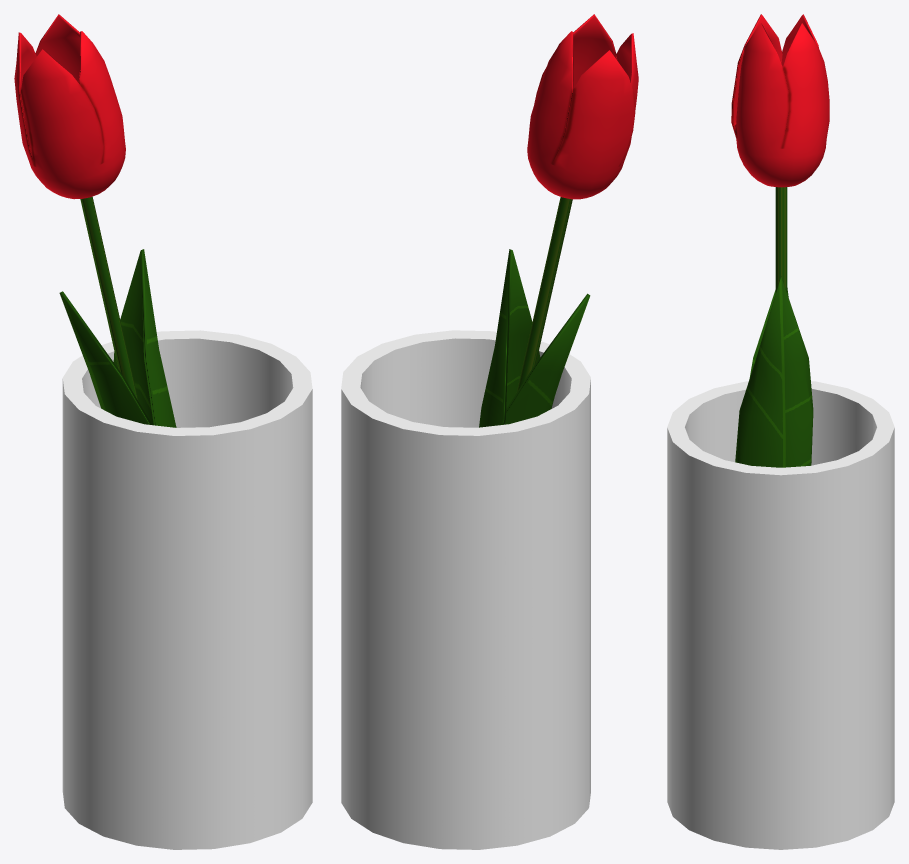
File: flower.fbx
The picture shows the model from 3 angles, left to right: view 1: azimuth 30°, elevation 25°; view 2: azimuth 150°, elevation 25°; view 3: azimuth 270°, elevation 25°; orthographic projection. The views are drawn at different scales.
Visible parts, largest first — view 1: tulip1; view 2: tulip1; view 3: tulip1.
Boxes of the visible parts, <box> form: tulip1: <box>14,14,312,849</box>; tulip1: <box>341,14,638,849</box>; tulip1: <box>667,14,894,849</box>.
Bounding box in the file's own units: 5.78 × 15.98 × 4.53.
Materials: 2 (2 with a texture image).
